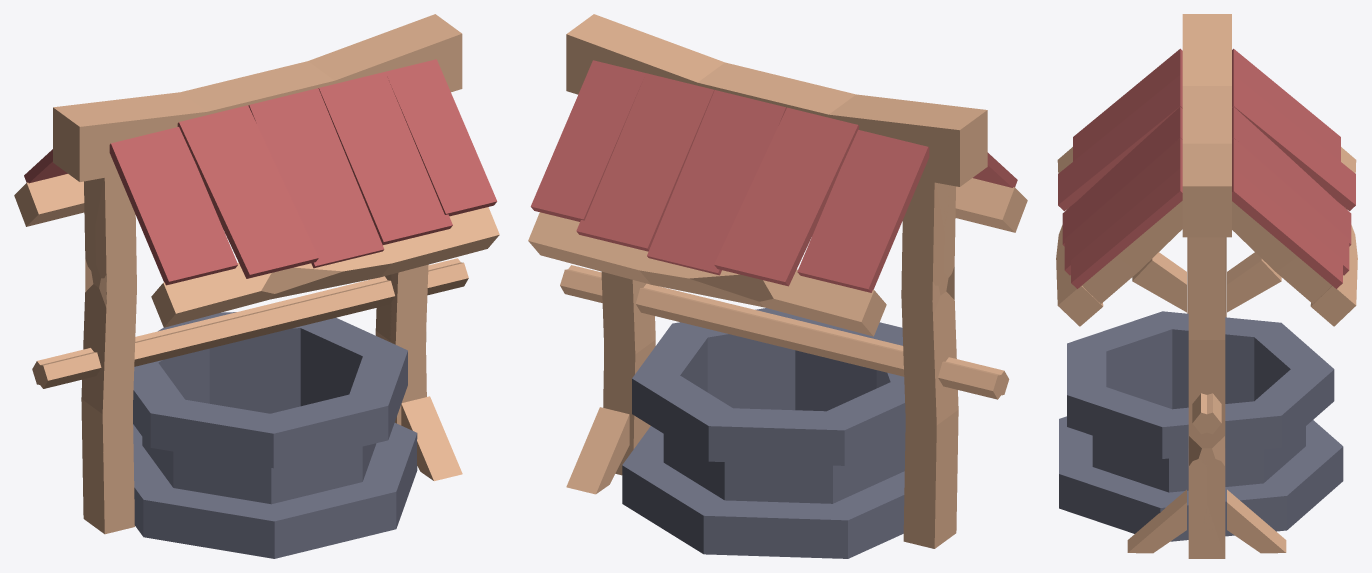
File: lovelyWell.fbx
3 renders of one model, left to right at view 1: azimuth 30°, elevation 25°; view 2: azimuth 150°, elevation 25°; view 3: azimuth 270°, elevation 25°, orthographic. The views are drawn at different scales.
Visible parts, largest first — view 1: roofTiles, well, scaffold, rooftop; view 2: roofTiles, well, scaffold, rooftop; view 3: well, roofTiles, scaffold, rooftop.
Part boxes in pixels (box(x1,y1,x2,y2)): roofTiles: box(24, 59, 497, 285); well: box(133, 312, 417, 558); scaffold: box(14, 174, 499, 534); rooftop: box(53, 14, 462, 181); roofTiles: box(530, 60, 1017, 292); well: box(622, 308, 905, 558); scaffold: box(528, 178, 1027, 548); rooftop: box(566, 14, 987, 186); well: box(1059, 311, 1343, 541); roofTiles: box(1058, 48, 1355, 288); scaffold: box(1056, 147, 1357, 558); rooftop: box(1182, 14, 1231, 237).
Bounding box in the file's own units: 284 × 270 × 191.
